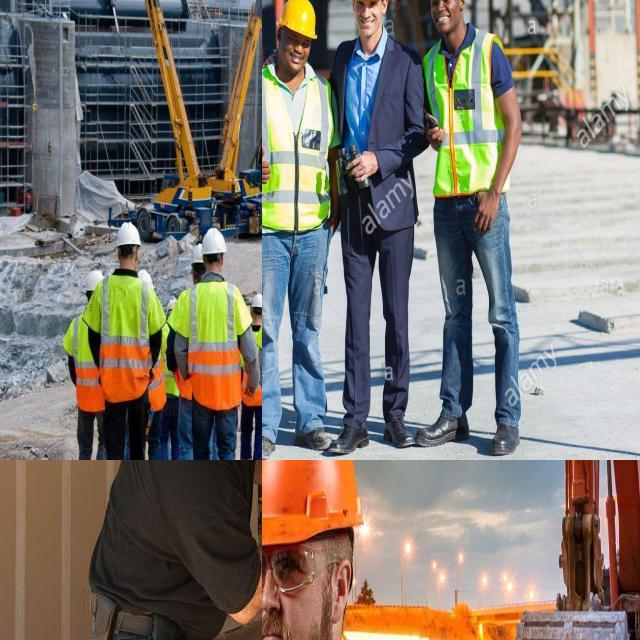No_Ear-Protection: (332, 551, 353, 626)
face_nomask: (262, 551, 337, 640), (282, 33, 310, 80), (355, 0, 385, 42), (427, 0, 460, 37)
glasses: (262, 542, 314, 599)
hand_noglove: (351, 146, 379, 187), (477, 187, 502, 232), (262, 147, 274, 186)
head_helmet: (262, 460, 365, 546), (277, 0, 317, 38), (202, 226, 228, 258), (116, 222, 140, 249), (84, 269, 104, 293), (190, 244, 203, 263), (250, 293, 262, 311), (138, 270, 152, 284)
person: (418, 0, 518, 452), (331, 0, 421, 450), (262, 460, 473, 640), (262, 0, 332, 447), (100, 222, 158, 460), (189, 229, 245, 460), (69, 270, 109, 460), (160, 297, 183, 460), (240, 293, 262, 460)
shoes: (413, 402, 469, 451), (324, 415, 372, 460), (486, 406, 524, 459), (377, 406, 420, 450), (262, 418, 281, 460)
vest: (426, 31, 507, 194), (262, 66, 329, 224), (184, 278, 246, 408), (93, 276, 154, 394), (63, 313, 105, 411)
